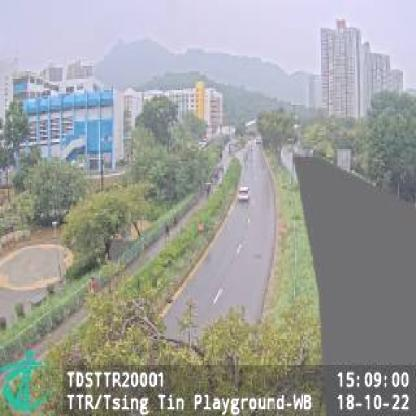Car: (238, 183, 250, 204)
